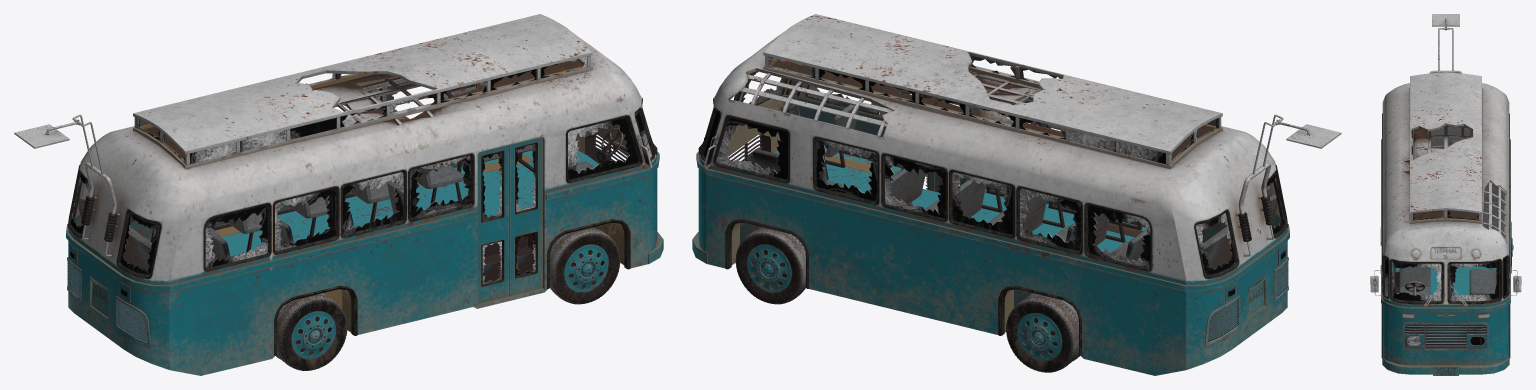
The model's file is damaged_bus.fbx.
The picture shows the model from 3 angles, left to right: view 1: azimuth 30°, elevation 25°; view 2: azimuth 150°, elevation 25°; view 3: azimuth 270°, elevation 25°; orthographic projection. The views are drawn at different scales.
Visible parts, largest first — view 1: polySurface1842, polySurface1577, polySurface1849, polySurface1803, polySurface1795, polySurface1786, polySurface1832, _polySurface149, polySurface1775, polySurface1836, polySurface73, polySurface1806 (+11 smaller); view 2: polySurface1842, polySurface1577, polySurface1849, polySurface1803, polySurface1832, _polySurface149, polySurface1840, polySurface1760, polySurface1786, polySurface1775, polySurface1838, polySurface1806 (+8 smaller); view 3: polySurface1842, polySurface1577, polySurface1832, polySurface1849, polySurface1803, polySurface1607, polySurface1844, polySurface1760, _polySurface149, polySurface1590, polySurface1786, polySurface1806 (+14 smaller).
Boxes of the visible parts, left/top/right/bottom form: polySurface1842: left=68, top=32, right=657, bottom=375; polySurface1577: left=133, top=14, right=592, bottom=168; polySurface1849: left=71, top=81, right=653, bottom=284; polySurface1803: left=67, top=82, right=657, bottom=278; polySurface1795: left=477, top=137, right=542, bottom=303; polySurface1786: left=215, top=150, right=601, bottom=256; polySurface1832: left=78, top=146, right=594, bottom=268; _polySurface149: left=66, top=151, right=659, bottom=291; polySurface1775: left=137, top=56, right=587, bottom=164; polySurface1836: left=275, top=293, right=347, bottom=370; polySurface73: left=550, top=227, right=620, bottom=304; polySurface1806: left=14, top=114, right=120, bottom=256; polySurface1842: left=698, top=32, right=1287, bottom=375; polySurface1577: left=763, top=14, right=1222, bottom=168; polySurface1849: left=702, top=71, right=1284, bottom=275; polySurface1803: left=698, top=73, right=1288, bottom=278; polySurface1832: left=752, top=104, right=1277, bottom=268; _polySurface149: left=696, top=151, right=1289, bottom=291; polySurface1840: left=1006, top=293, right=1079, bottom=372; polySurface1760: left=739, top=71, right=1060, bottom=136; polySurface1786: left=774, top=151, right=1146, bottom=252; polySurface1775: left=768, top=55, right=1218, bottom=164; polySurface1838: left=735, top=227, right=805, bottom=304; polySurface1806: left=1235, top=114, right=1341, bottom=256; polySurface1842: left=1382, top=83, right=1509, bottom=365; polySurface1577: left=1410, top=72, right=1481, bottom=223; polySurface1832: left=1399, top=126, right=1504, bottom=295; polySurface1849: left=1385, top=185, right=1510, bottom=301; polySurface1803: left=1382, top=113, right=1509, bottom=304; polySurface1607: left=1405, top=324, right=1486, bottom=347; polySurface1844: left=1382, top=357, right=1509, bottom=374; polySurface1760: left=1403, top=126, right=1506, bottom=236; _polySurface149: left=1380, top=139, right=1510, bottom=311; polySurface1590: left=1405, top=325, right=1486, bottom=346; polySurface1786: left=1392, top=261, right=1499, bottom=295; polySurface1806: left=1429, top=14, right=1462, bottom=73.
Bounding box in the file's own units: 1216 × 506 × 383.
6 materials, 6 textured.
